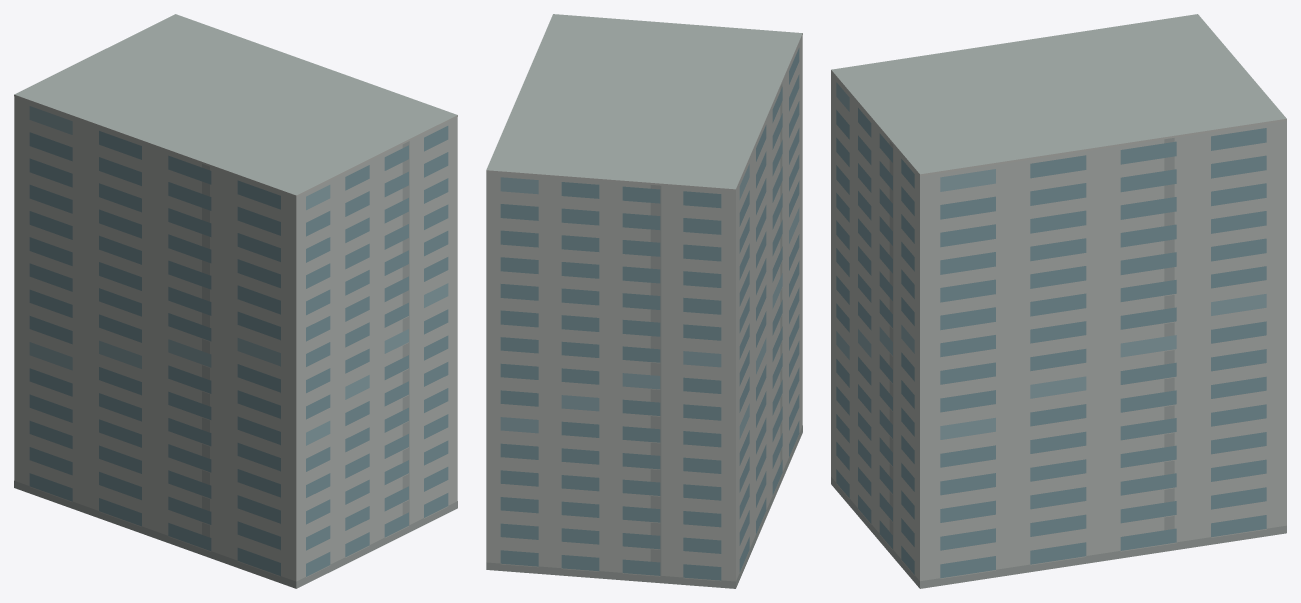
File: residential-59d8693f-4c0a-4a12-85fe-5380d039d5e2.glb
3 views of the same model, side by side, from view 1: azimuth 30°, elevation 25°; view 2: azimuth 150°, elevation 25°; view 3: azimuth 270°, elevation 25° (orthographic). The views are drawn at different scales.
Parts seen in each view (by area): view 1: residential-59d8693f-4c0a-4a12-85fe-5380d039d5e2.tmp; view 2: residential-59d8693f-4c0a-4a12-85fe-5380d039d5e2.tmp; view 3: residential-59d8693f-4c0a-4a12-85fe-5380d039d5e2.tmp.
Part boxes in pixels (left/top/right/bottom): residential-59d8693f-4c0a-4a12-85fe-5380d039d5e2.tmp: left=14, top=14, right=457, bottom=588; residential-59d8693f-4c0a-4a12-85fe-5380d039d5e2.tmp: left=486, top=14, right=802, bottom=588; residential-59d8693f-4c0a-4a12-85fe-5380d039d5e2.tmp: left=831, top=14, right=1286, bottom=588.
Bounding box in the file's own units: 41.48 × 50 × 49.83.
